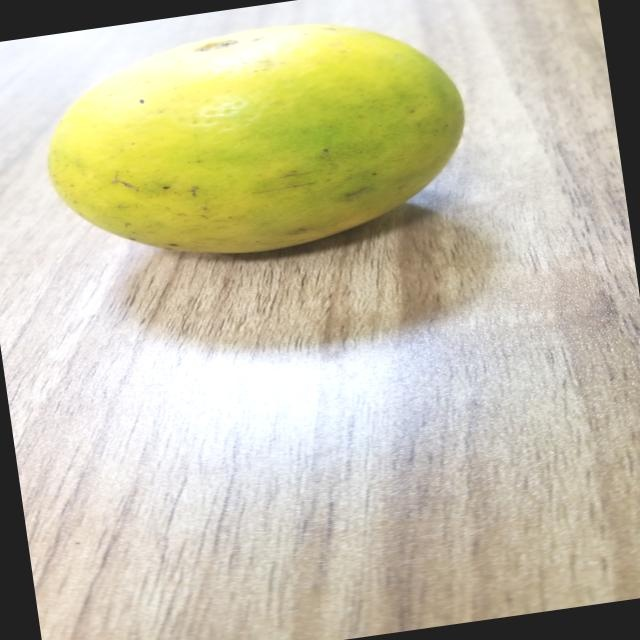agrume: (29, 0, 503, 281)
